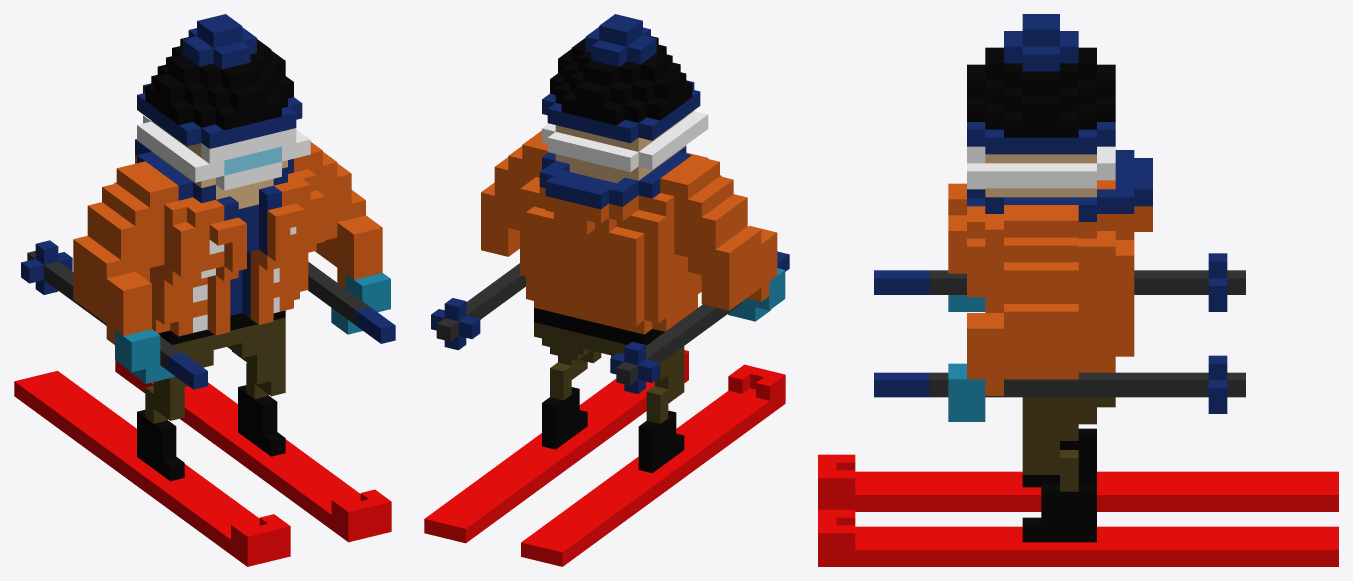
The model's file is Saut_3_Frame_00.obj.
The picture shows the model from 3 angles, left to right: view 1: azimuth 30°, elevation 25°; view 2: azimuth 150°, elevation 25°; view 3: azimuth 270°, elevation 25°; orthographic projection. The views are drawn at different scales.
Size of the model in its own units: 18 by 30 by 28.
1 material, 1 textured.
